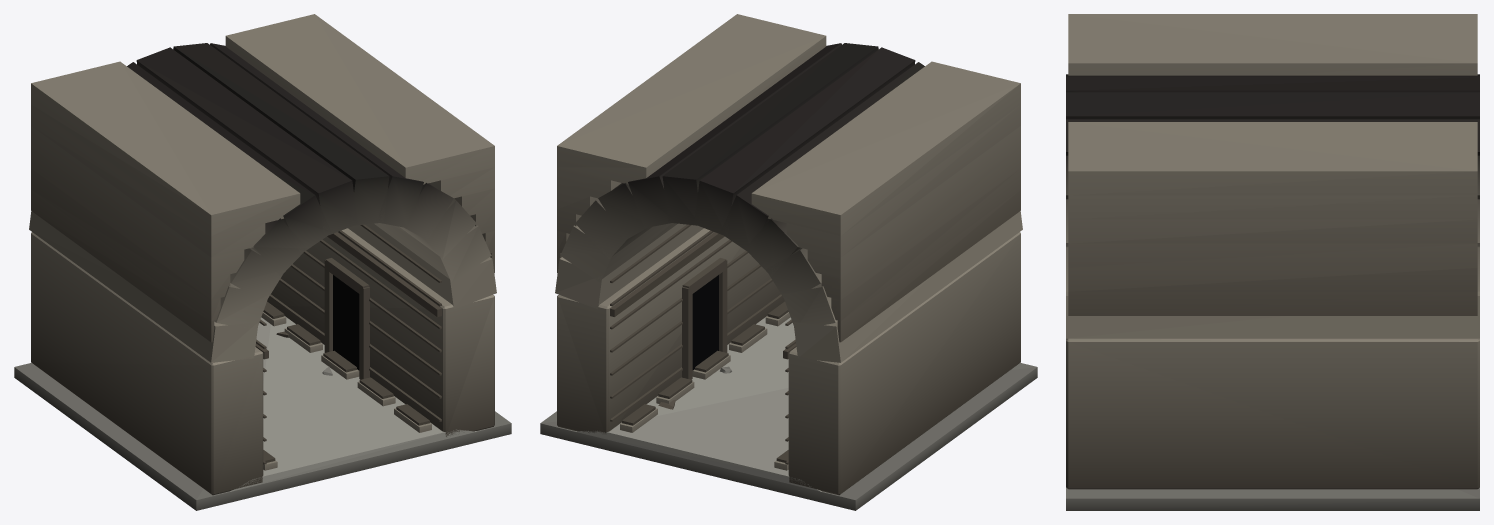
Rendered from tunnel-interior-tile.glb.
The picture shows the model from 3 angles, left to right: view 1: azimuth 30°, elevation 25°; view 2: azimuth 150°, elevation 25°; view 3: azimuth 270°, elevation 25°; orthographic projection. The views are drawn at different scales.
Visible parts, largest first — view 1: tunnel_interior_tile; view 2: tunnel_interior_tile; view 3: tunnel_interior_tile.
Part boxes in pixels (<box>): tunnel_interior_tile: <box>14,14,511,510</box>; tunnel_interior_tile: <box>540,14,1037,510</box>; tunnel_interior_tile: <box>1066,14,1479,510</box>.
Bounding box in the file's own units: 4 × 3.54 × 4.
